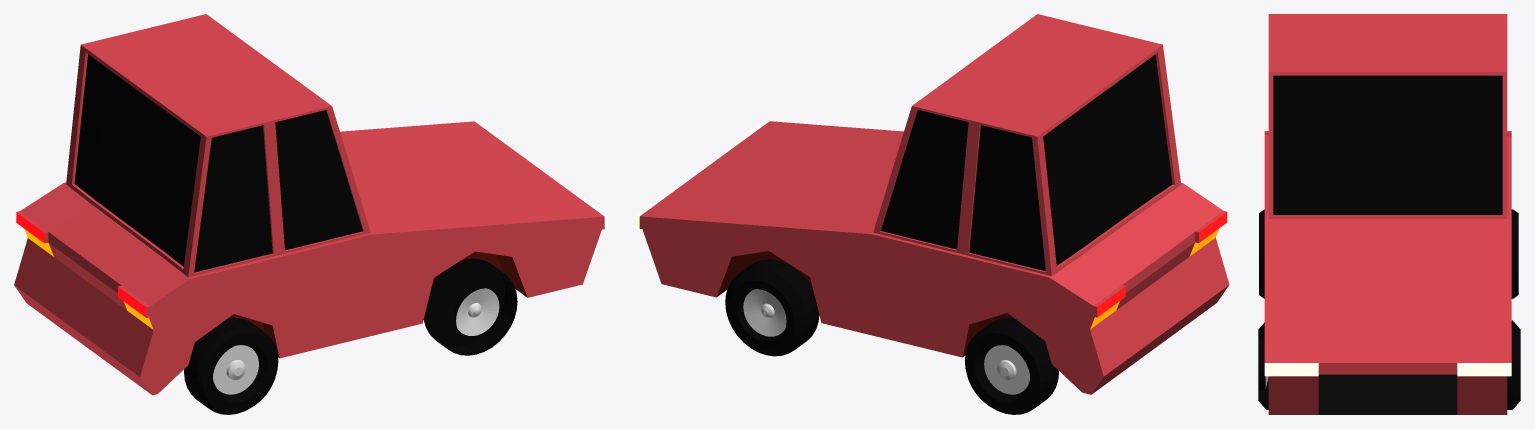
File: LaCaru.fbx
3 views of the same model, side by side, from view 1: azimuth 30°, elevation 25°; view 2: azimuth 150°, elevation 25°; view 3: azimuth 270°, elevation 25° (orthographic). The views are drawn at different scales.
Visible parts, largest first — view 1: LaCaru, Cylinder.001, Cylinder.002; view 2: LaCaru, Cylinder, Cylinder.002; view 3: LaCaru, Cylinder.002, Cylinder, Cylinder.001.
Boxes of the visible parts, box(x1,y1,x2,y2) form: LaCaru: box(14, 14, 607, 395); Cylinder.001: box(423, 258, 517, 355); Cylinder.002: box(184, 317, 278, 414); LaCaru: box(636, 14, 1229, 394); Cylinder: box(725, 259, 819, 356); Cylinder.002: box(965, 318, 1058, 414); LaCaru: box(1264, 14, 1511, 414); Cylinder.002: box(1259, 209, 1518, 298); Cylinder: box(1507, 320, 1520, 409); Cylinder.001: box(1258, 322, 1268, 409).
Bounding box in the file's own units: 427 × 248 × 220.
